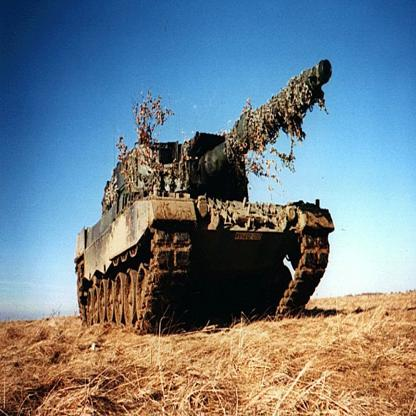Tank: (68, 55, 351, 337)
